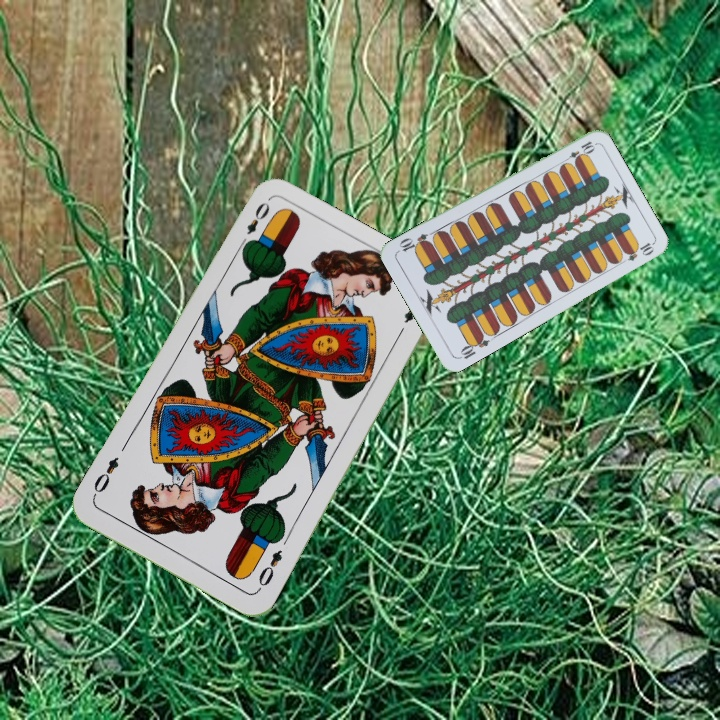E10: (455, 330, 492, 362), (559, 137, 597, 166)
EO: (234, 198, 273, 251), (254, 545, 285, 594)
